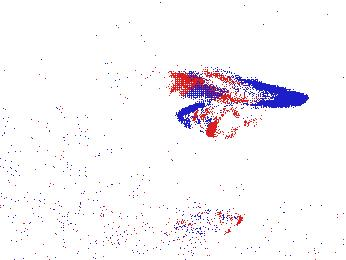X-ray fish: (177, 100, 265, 140)
redtail glassfish: (178, 65, 310, 108)
